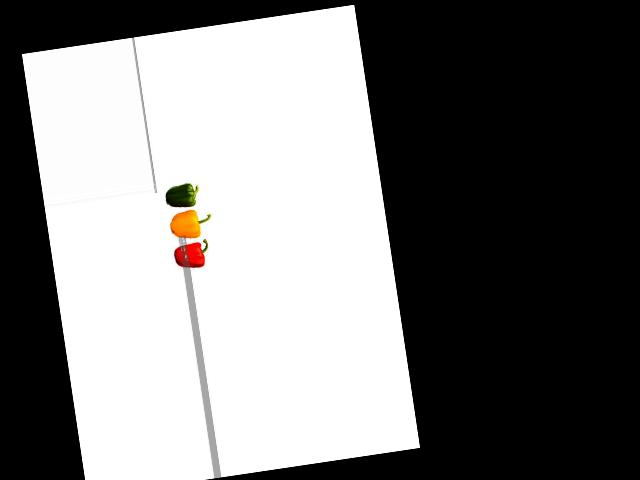bell_pepper: (161, 178, 205, 209)
